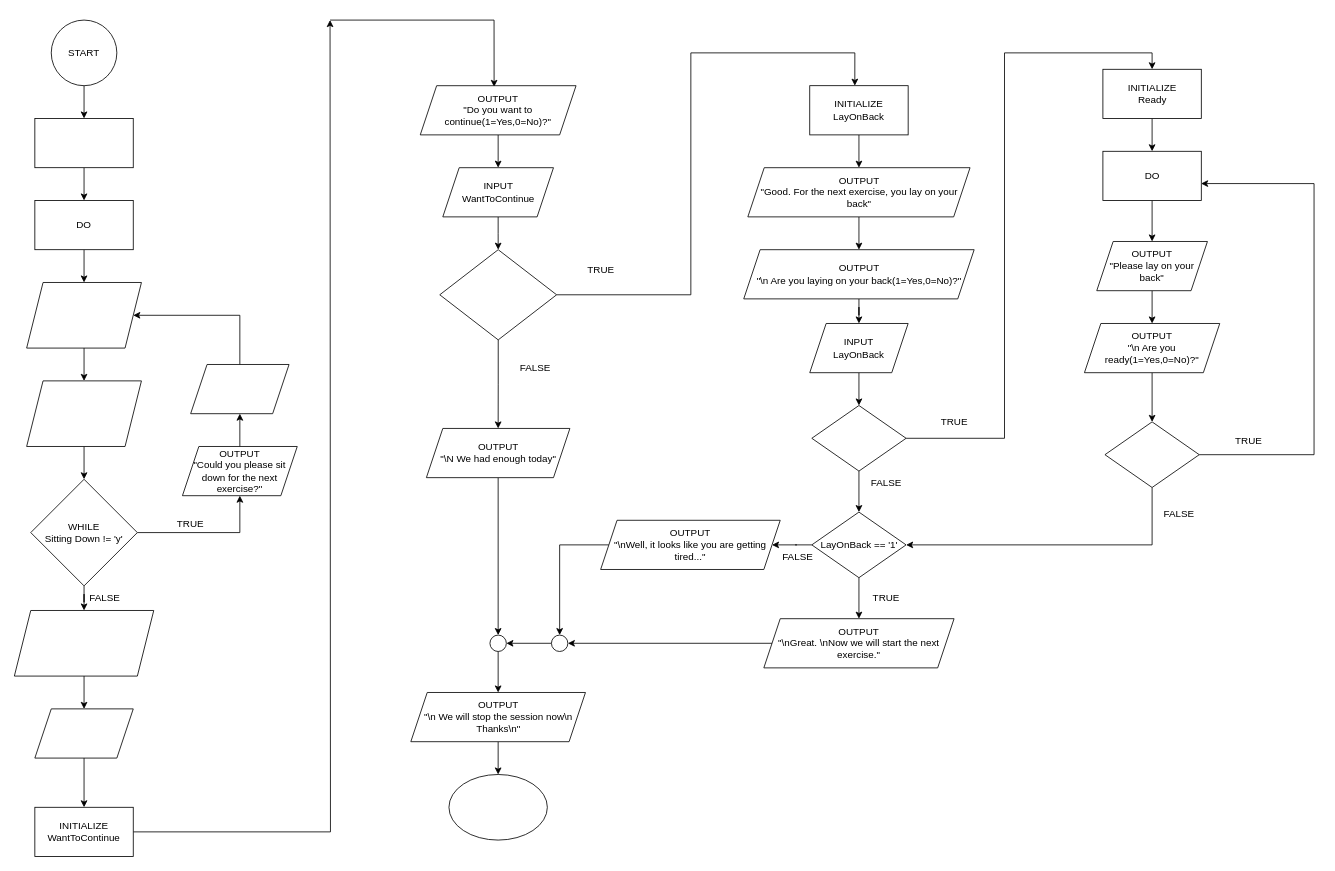
Some shapes in this 1335 by 871 pixel diagram are drawn without their labels. Here are the shapes that lost their labels. From the top down, the centre of each, then its label:
[83,143]: INITIALIZE Sitting Down
[498,294]: WantToContinue == '1'
[83,315]: OUTPUT "Are you sitting down (y/n)?"
[239,389]: OUTPUT "\n\n"
[83,413]: INPUT Sitting Down
[858,438]: LayOnBack == '0'
[1151,454]: WHILE Ready == '0'
[84,643]: OUTPUT "Wonderful. Now we will continue with today's exercise...\n"
[83,733]: OUTPUT "\n...\n\n End of exercise\n"
[497,807]: END
